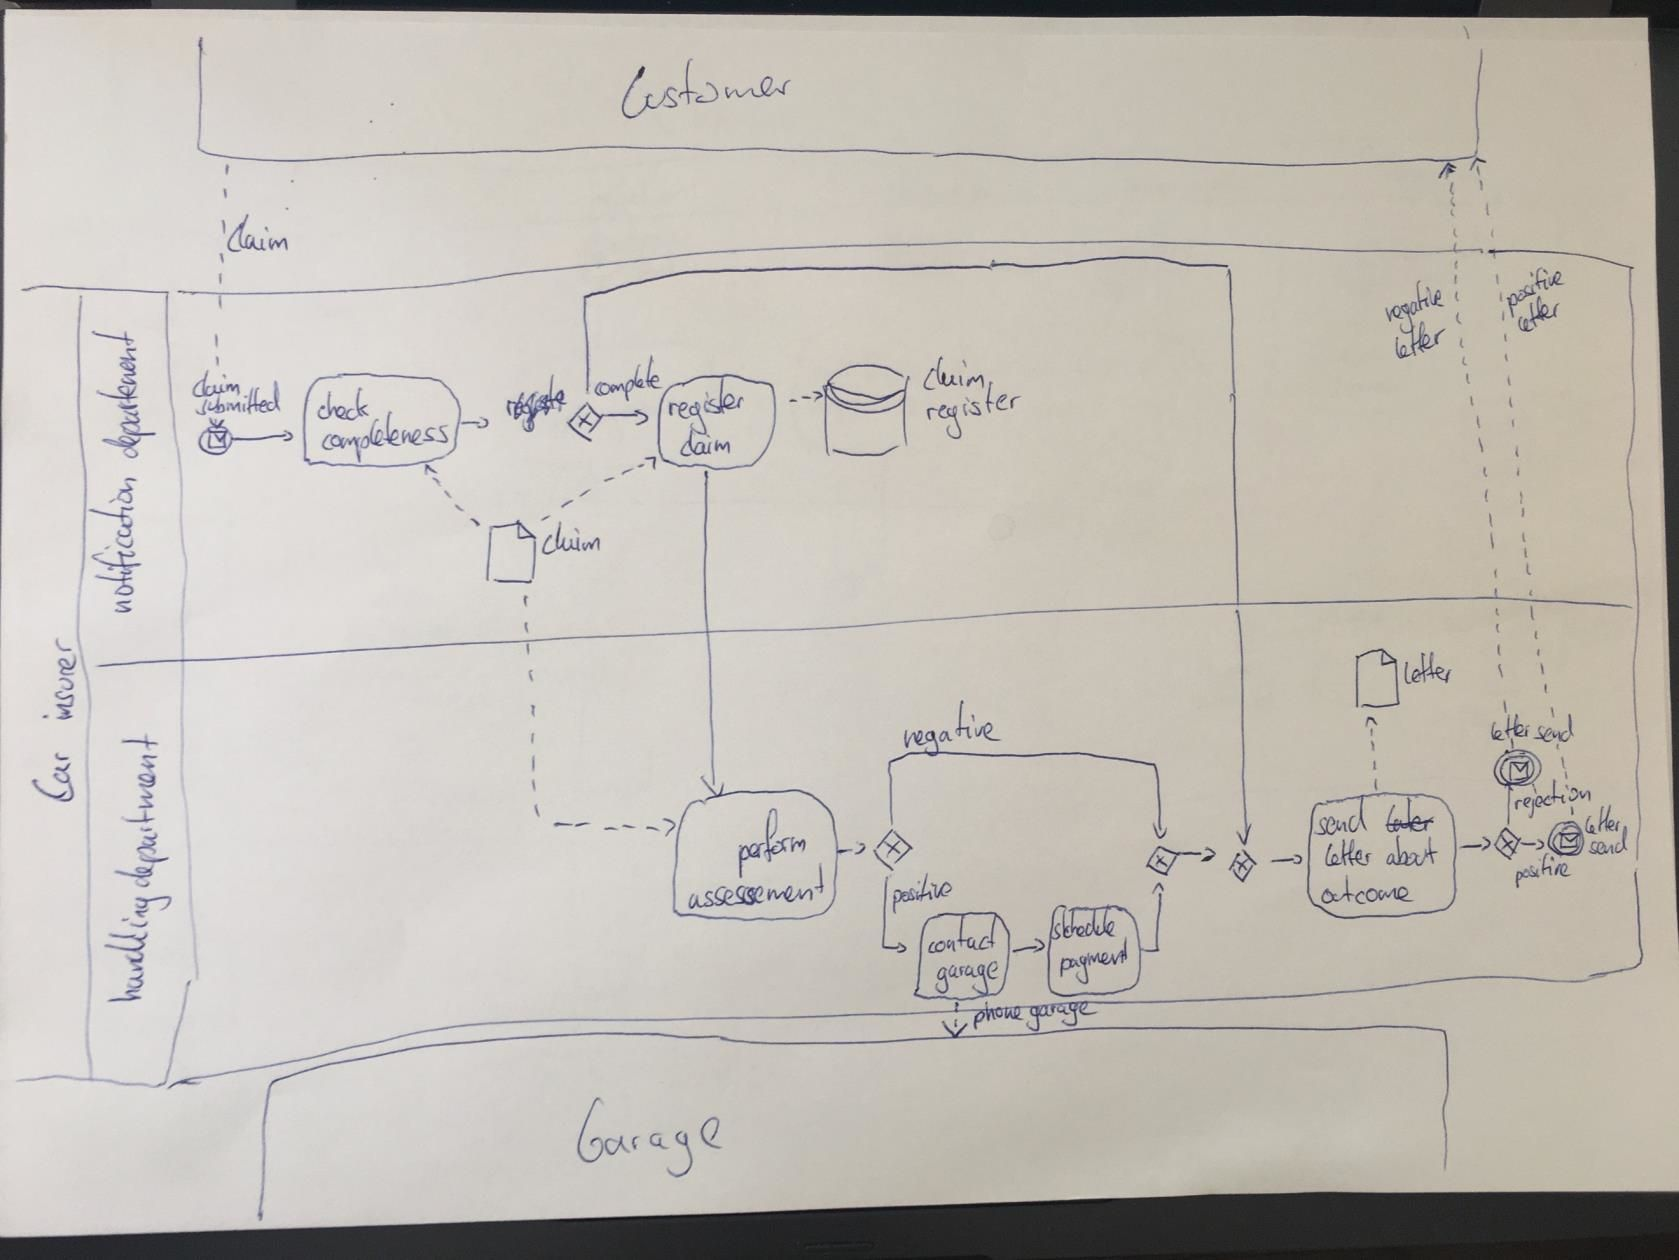Car: (26, 749, 81, 807)
Claim: (222, 212, 294, 258)
Customer: (615, 53, 796, 126)
Garage: (570, 1091, 728, 1182)
about: (1383, 831, 1443, 872)
assessement: (683, 862, 831, 915)
check: (312, 384, 373, 426)
claim: (920, 353, 990, 396), (538, 517, 606, 559), (677, 422, 736, 461), (187, 367, 245, 402)
complete: (590, 352, 667, 406)
completeness: (318, 408, 454, 465)
contact: (924, 911, 1002, 960)
departement: (86, 326, 161, 465)
department: (108, 729, 175, 893)
garage: (931, 957, 1003, 999), (1025, 998, 1096, 1036)
handeling: (99, 893, 176, 1007)
insures: (38, 633, 83, 727)
letter: (1391, 318, 1449, 364), (1399, 649, 1459, 690), (1514, 292, 1565, 337), (1320, 836, 1377, 872), (1581, 802, 1625, 839), (1487, 711, 1533, 745)
negative: (898, 696, 1006, 762), (1381, 277, 1450, 337)
notification: (85, 474, 146, 619)
outcome: (1316, 871, 1418, 911)
pagment: (1055, 934, 1133, 989)
perform: (733, 805, 810, 883)
phone: (969, 998, 1025, 1032)
positive: (1503, 265, 1568, 322), (888, 871, 957, 919), (1511, 848, 1574, 893)
register: (922, 379, 1025, 443), (663, 375, 748, 439)
rejection: (1511, 777, 1594, 823)
schedule: (1045, 903, 1121, 944)
send: (1313, 791, 1371, 840), (1529, 711, 1578, 746), (1585, 825, 1631, 860)
submitted: (191, 377, 286, 421)
